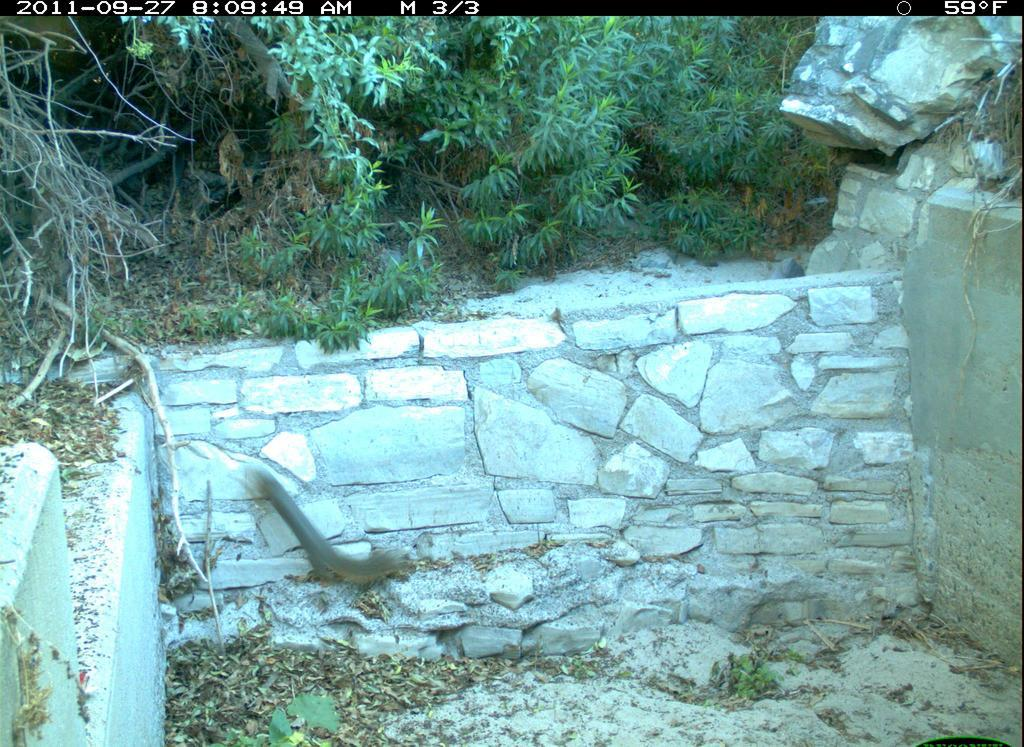squirrel: (232, 450, 427, 598)
